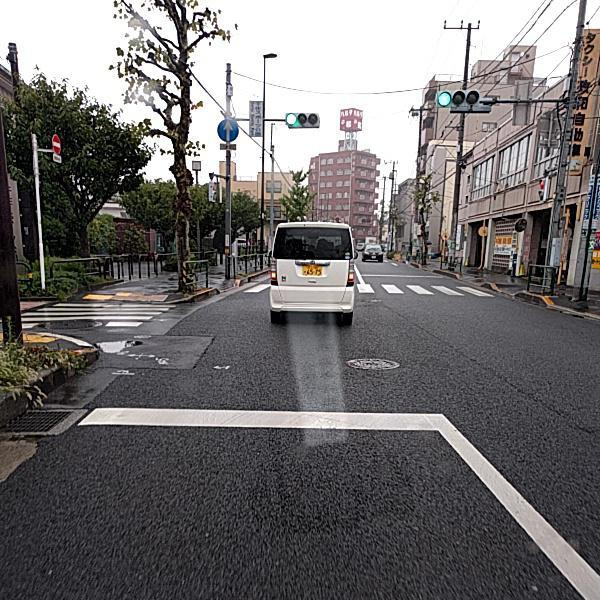D50: (345, 357, 402, 370)
